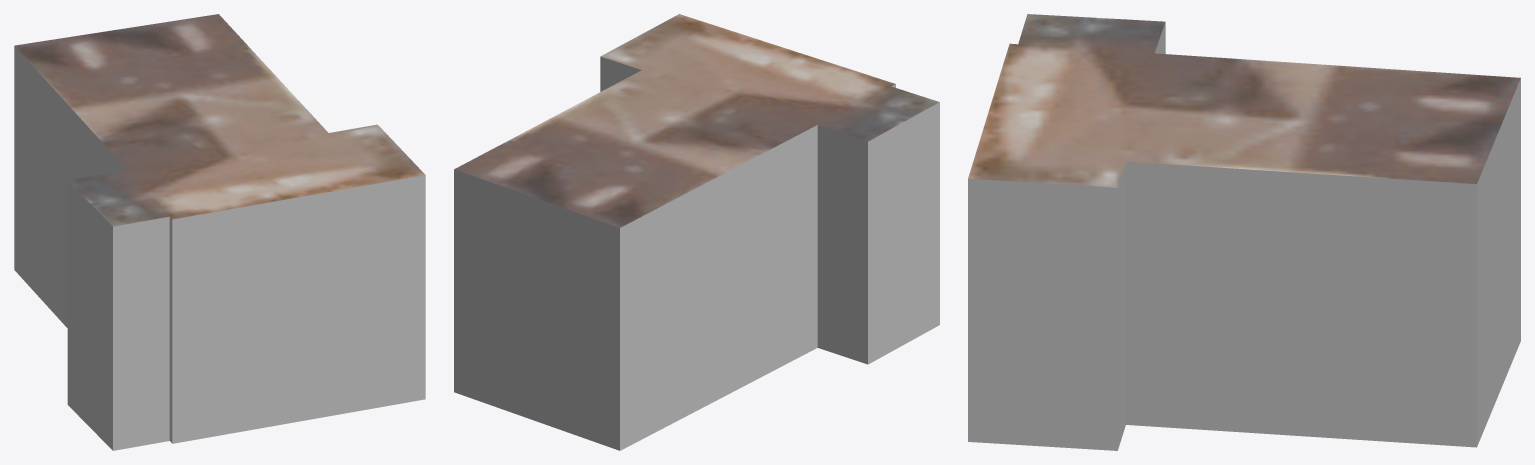
The model's file is DEBW_0010007Tx5B.gltf.
The picture shows the model from 3 angles, left to right: view 1: azimuth 30°, elevation 25°; view 2: azimuth 150°, elevation 25°; view 3: azimuth 270°, elevation 25°; orthographic projection. The views are drawn at different scales.
Visible parts, largest first — view 1: Z_UP; view 2: Z_UP; view 3: Z_UP.
Part boxes in pixels (left/top/right/bottom): Z_UP: left=14, top=14, right=425, bottom=450; Z_UP: left=454, top=14, right=939, bottom=450; Z_UP: left=968, top=14, right=1520, bottom=450.
Size of the model in its own units: 12.05 by 8.52 by 16.21.
2 materials, 1 textured.
